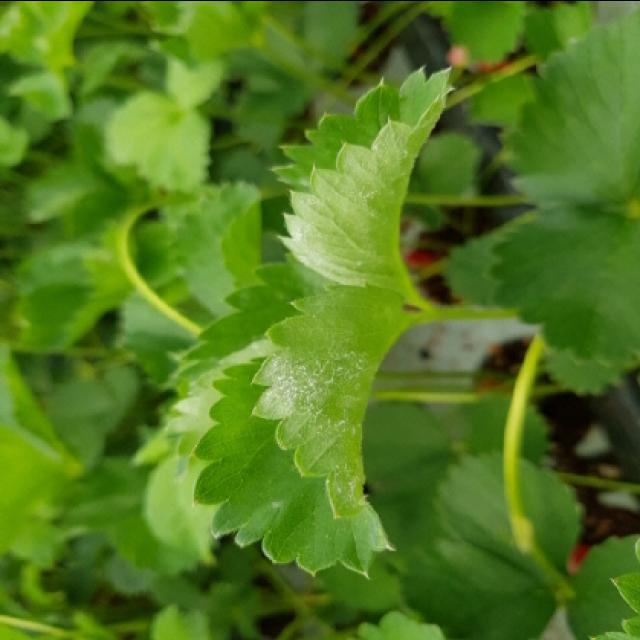Powdery Mildew Leaf: (192, 282, 421, 579), (269, 63, 454, 312)
